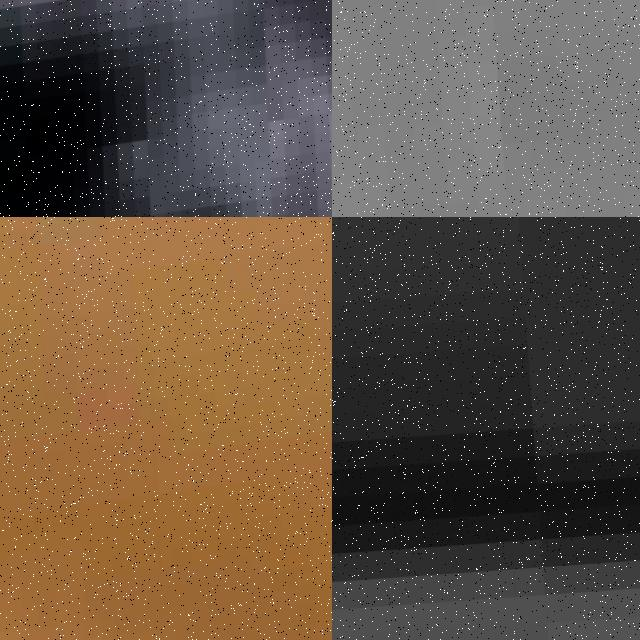drone: (0, 217, 332, 640), (0, 0, 332, 217)
